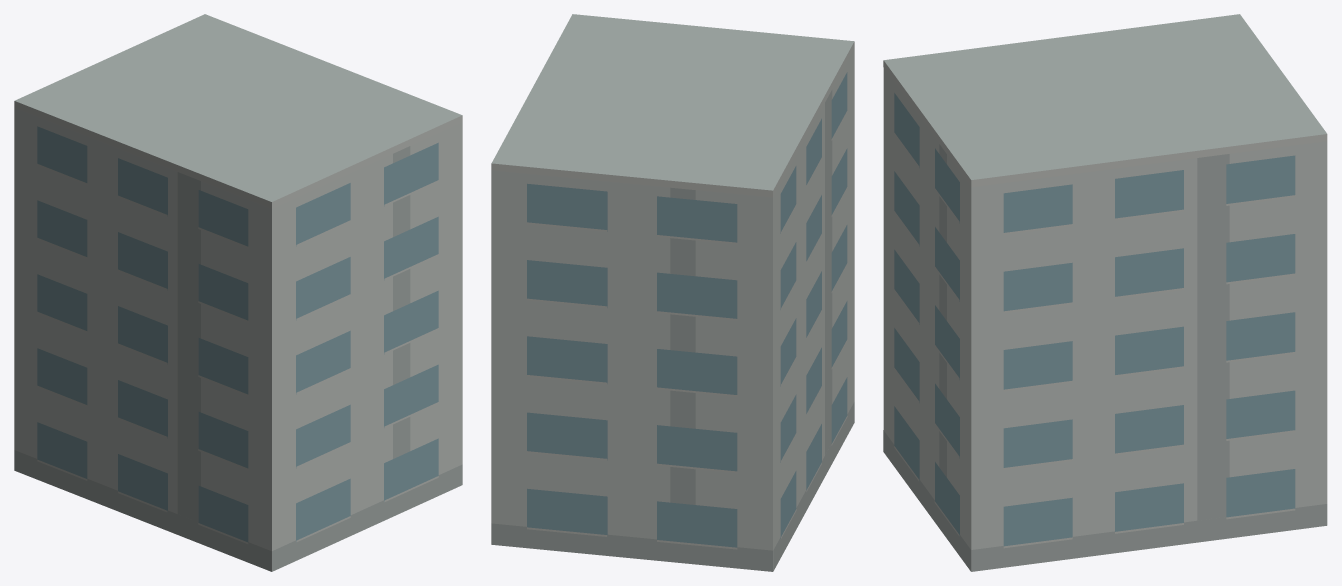
File: survey-upis-32836731.glb
3 views of the same model, side by side, from view 1: azimuth 30°, elevation 25°; view 2: azimuth 150°, elevation 25°; view 3: azimuth 270°, elevation 25° (orthographic). The views are drawn at different scales.
Visible parts, largest first — view 1: survey-upis-32836731.tmp; view 2: survey-upis-32836731.tmp; view 3: survey-upis-32836731.tmp.
Part boxes in pixels (x1,y1,x2,y2): survey-upis-32836731.tmp: [14, 14, 462, 571]; survey-upis-32836731.tmp: [491, 14, 854, 571]; survey-upis-32836731.tmp: [883, 14, 1327, 571].
Bounding box in the file's own units: 12.02 × 13.2 × 13.56.
